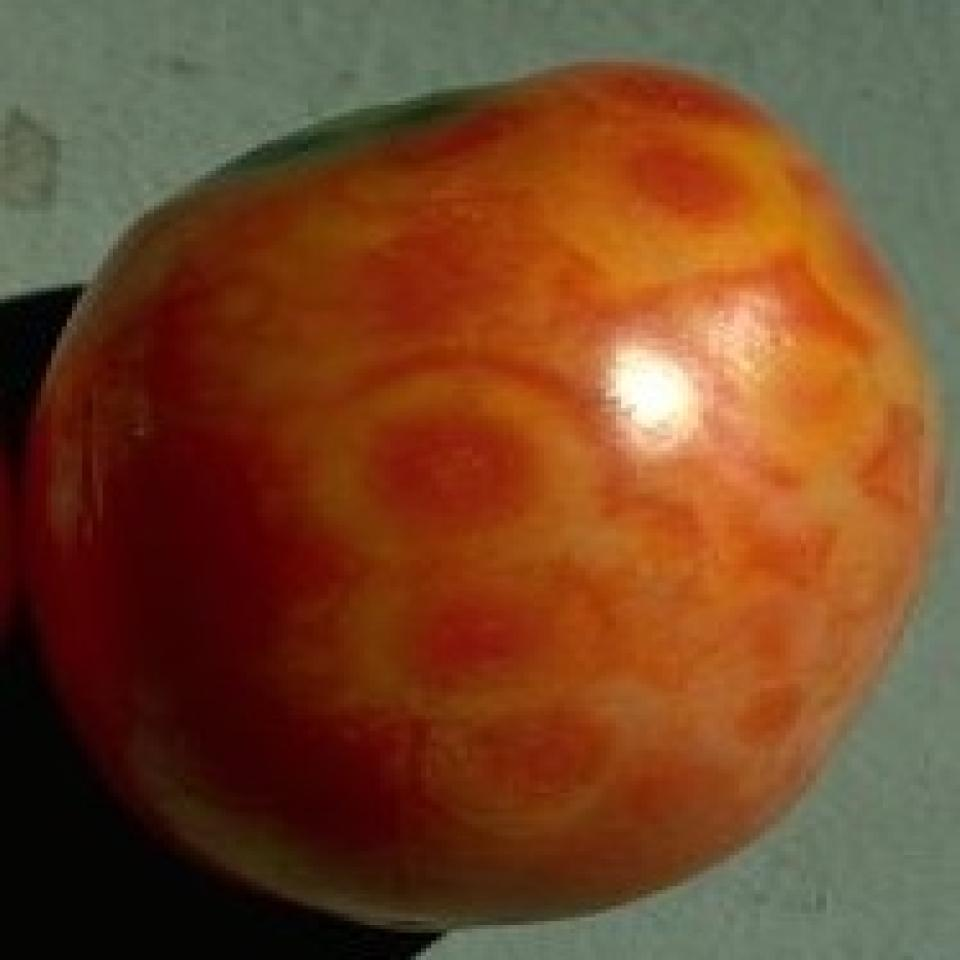Spotted wilt Virus: (22, 55, 941, 927)
